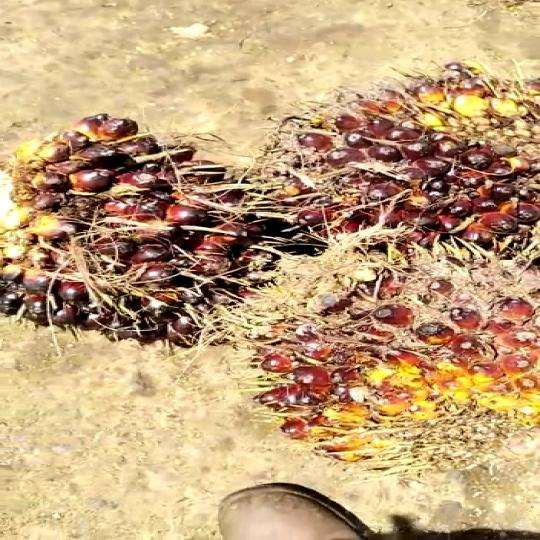kurang masak: (238, 242, 540, 502), (0, 111, 282, 351), (246, 44, 540, 262)
